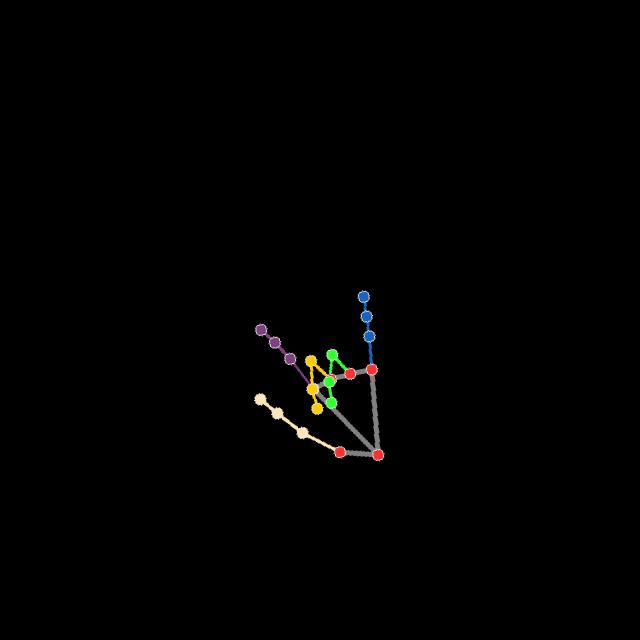spiderman: (238, 287, 389, 464)
